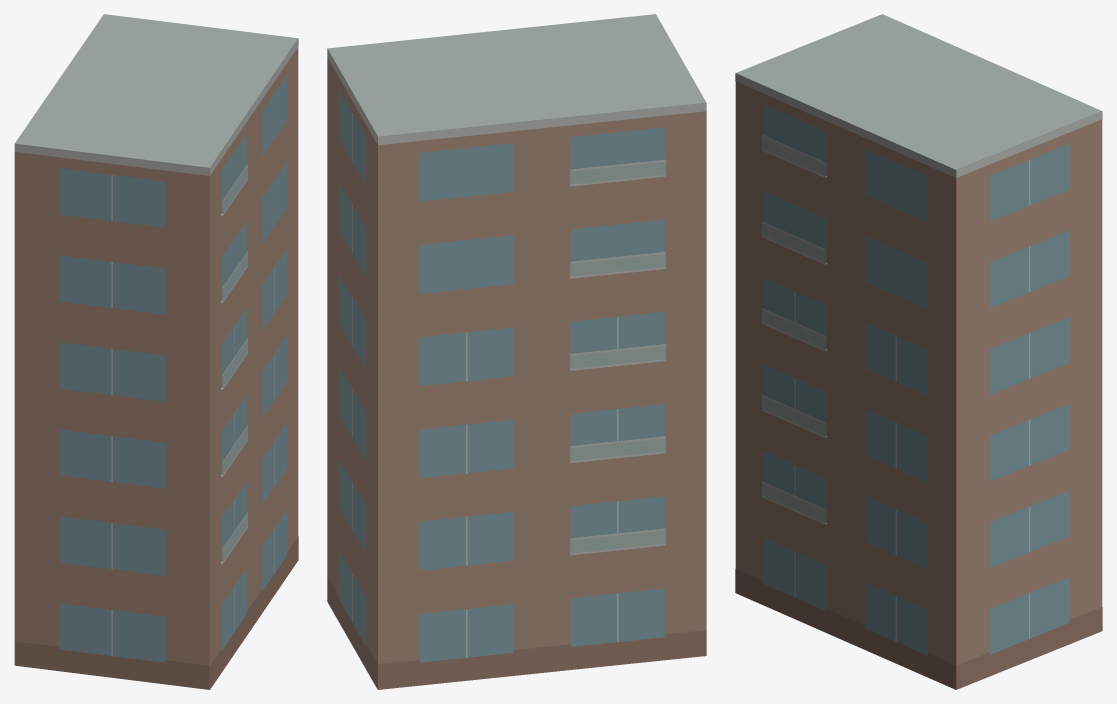
The model's file is survey-upis-32591949.glb.
3 renders of one model, left to right at view 1: azimuth 30°, elevation 25°; view 2: azimuth 150°, elevation 25°; view 3: azimuth 270°, elevation 25°, orthographic. The views are drawn at different scales.
Parts seen in each view (by area): view 1: survey-upis-32591949.tmp; view 2: survey-upis-32591949.tmp; view 3: survey-upis-32591949.tmp.
Boxes of the visible parts, bbox=[...] form: survey-upis-32591949.tmp: bbox=[14, 14, 298, 689]; survey-upis-32591949.tmp: bbox=[327, 14, 706, 689]; survey-upis-32591949.tmp: bbox=[735, 14, 1102, 689].
Size of the model in its own units: 10.04 by 15.6 by 9.98.
